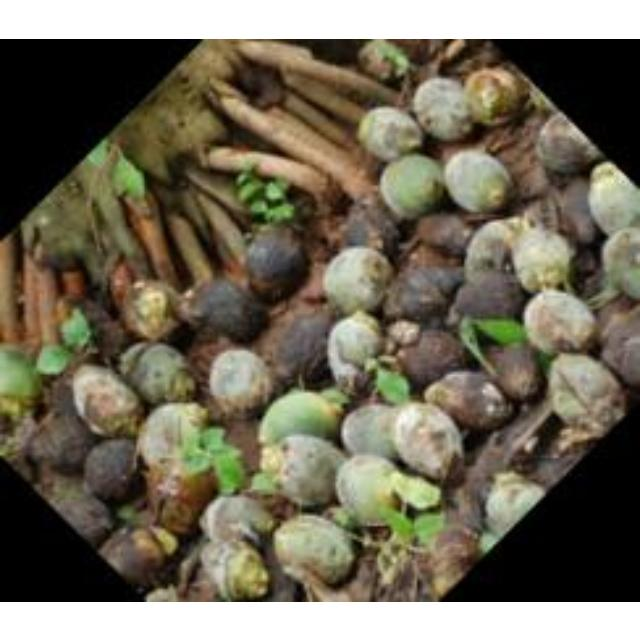damaged: (261, 433, 347, 507), (272, 514, 358, 586), (145, 454, 219, 536), (545, 352, 621, 428), (424, 368, 514, 432), (185, 276, 268, 344), (334, 453, 410, 527), (392, 401, 462, 481), (70, 364, 144, 438), (270, 308, 338, 384), (258, 388, 346, 446), (322, 244, 392, 314), (136, 400, 208, 468), (522, 288, 596, 354), (208, 346, 278, 414), (244, 226, 310, 298), (394, 326, 468, 389), (442, 148, 512, 214), (122, 342, 194, 406), (326, 313, 386, 389), (378, 153, 446, 219), (100, 524, 170, 588), (384, 264, 460, 322), (120, 277, 188, 341), (202, 538, 272, 600), (484, 472, 546, 540), (512, 226, 574, 292), (411, 76, 473, 142), (536, 112, 600, 174), (29, 411, 93, 473), (451, 268, 524, 322), (81, 435, 140, 501), (202, 492, 274, 546), (586, 162, 640, 232), (424, 524, 478, 594), (340, 196, 402, 256), (340, 403, 404, 461), (464, 66, 528, 124), (356, 105, 422, 161), (465, 218, 519, 276), (600, 226, 640, 302), (1, 347, 44, 415), (358, 38, 414, 80)
